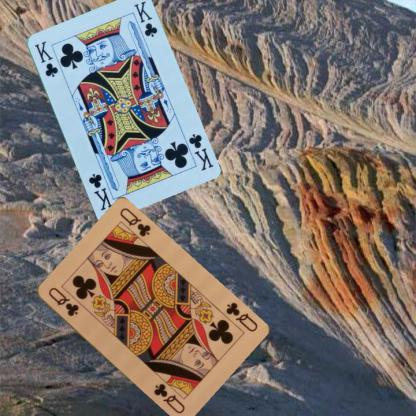Kc: (186, 131, 214, 172), (32, 38, 59, 79)
Qc: (222, 300, 259, 334), (45, 284, 80, 318)
